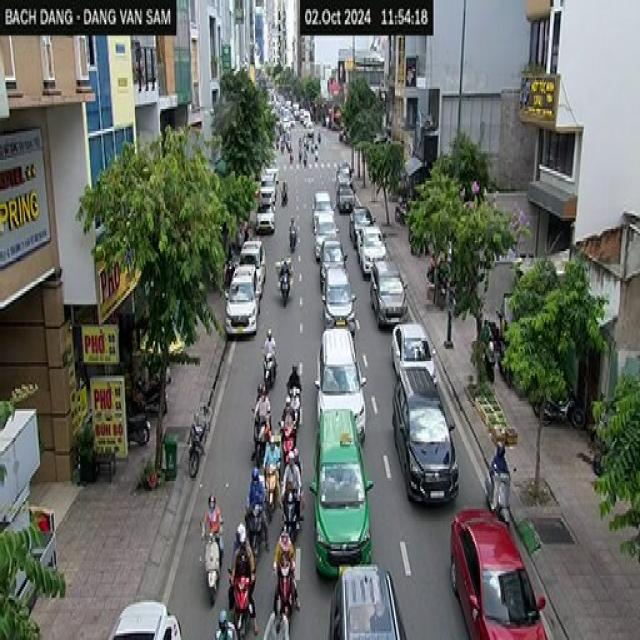car: (449, 507, 549, 638), (308, 407, 374, 578), (328, 562, 407, 638), (318, 328, 371, 440), (108, 600, 182, 638)
motorcycle: (200, 518, 224, 604), (275, 256, 293, 304)
person: (488, 440, 512, 520), (201, 486, 224, 532)
